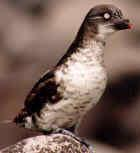006.Least_Auklet: (1, 4, 135, 151)
